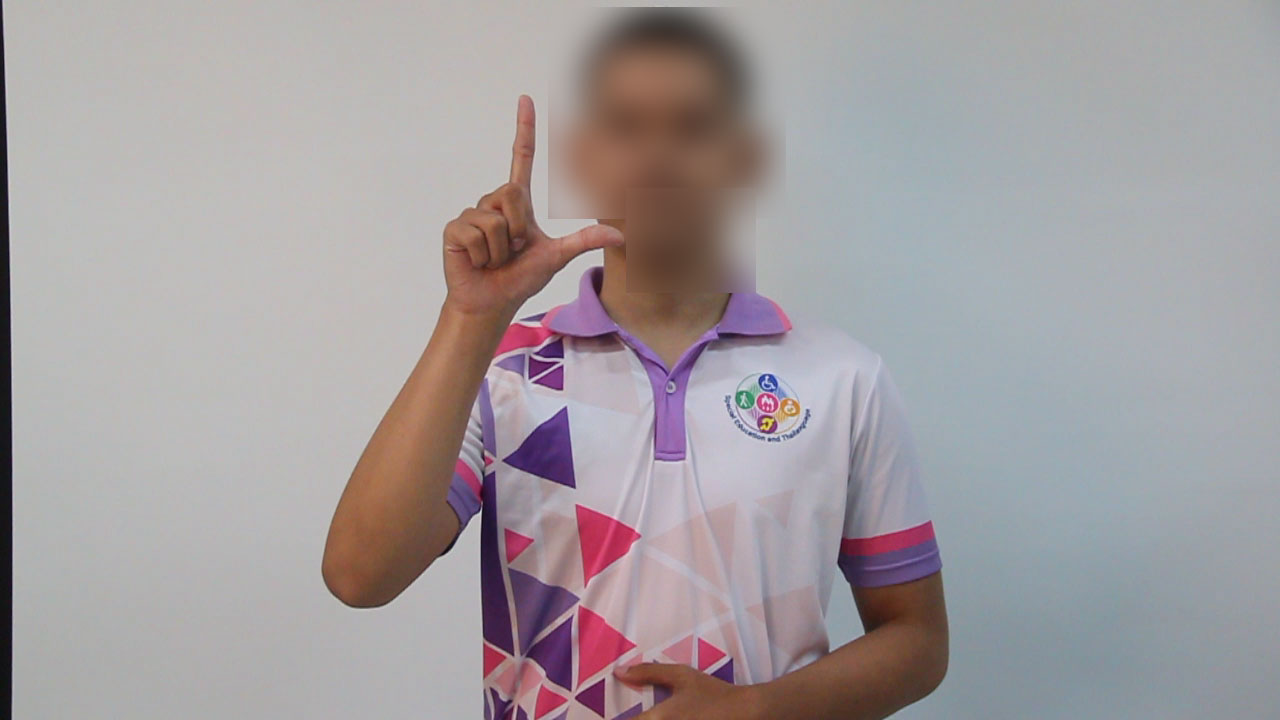lor: (437, 61, 629, 347)
